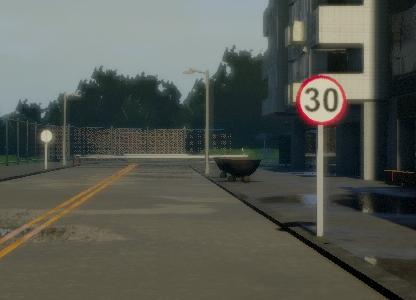Speed_30: (313, 64, 371, 120)
